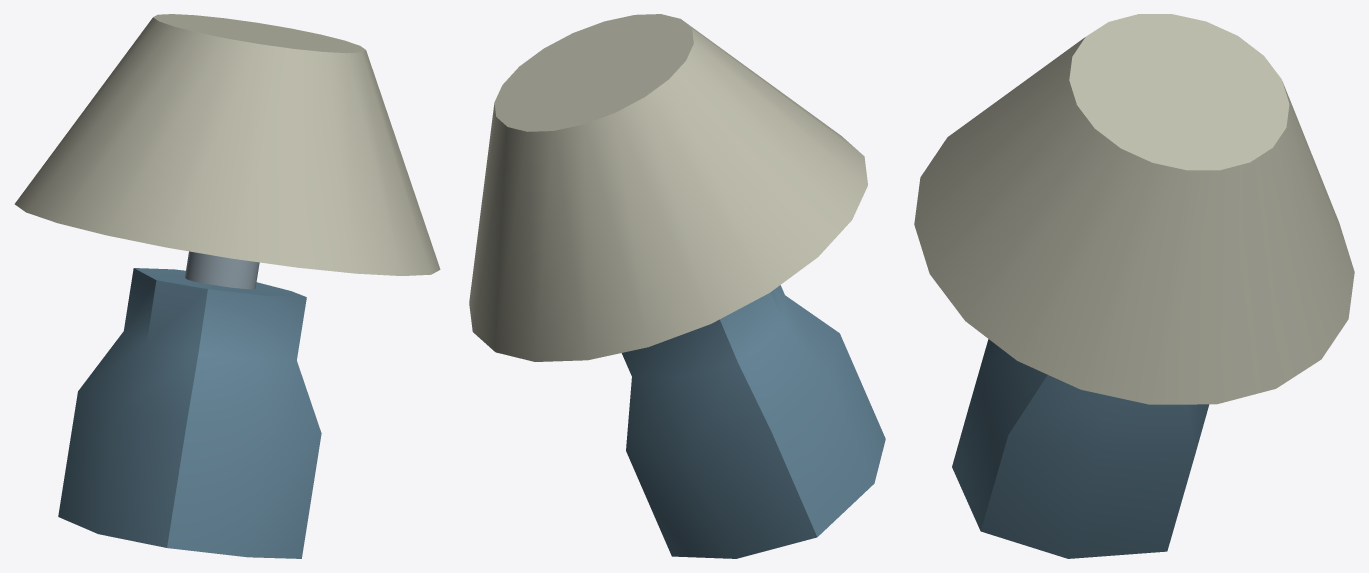
The model's file is Lamp.fbx.
The picture shows the model from 3 angles, left to right: view 1: azimuth 30°, elevation 25°; view 2: azimuth 150°, elevation 25°; view 3: azimuth 270°, elevation 25°; orthographic projection. The views are drawn at different scales.
Visible parts, largest first — view 1: Lamp; view 2: Lamp; view 3: Lamp.
Boxes of the visible parts, x1=… form: Lamp: x1=14, y1=14, x2=440, y2=558; Lamp: x1=469, y1=14, x2=885, y2=558; Lamp: x1=914, y1=14, x2=1354, y2=558.
Bounding box in the file's own units: 5.46 × 7.48 × 5.59.
